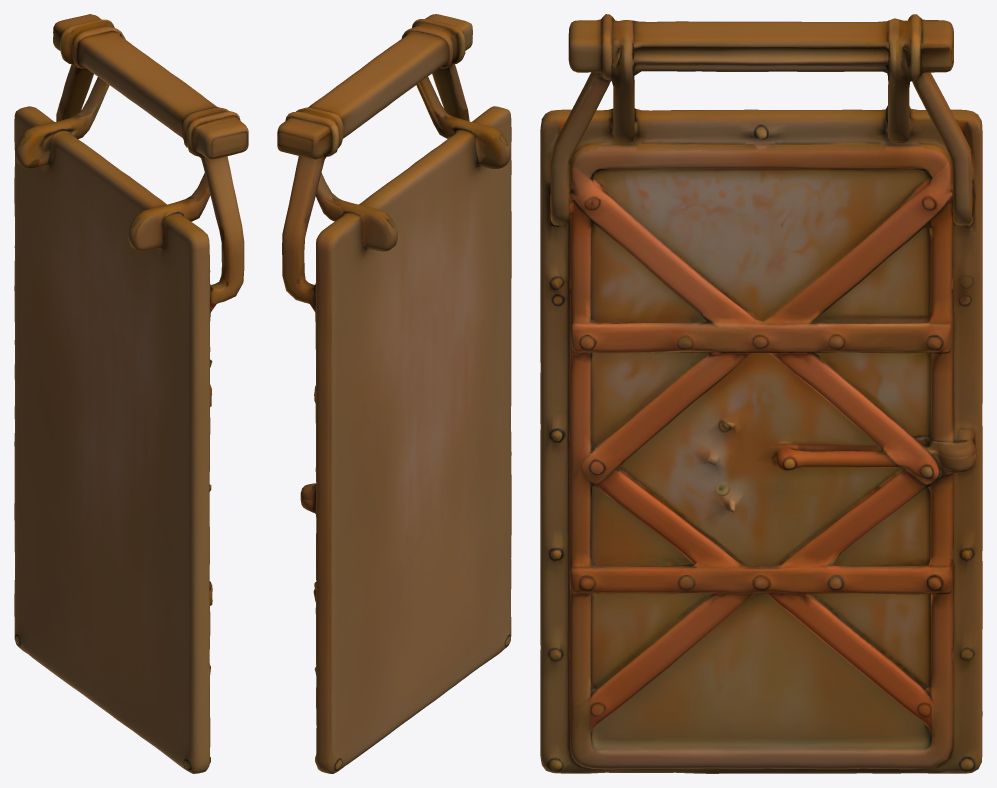
Rendered from tripo_convert_9da96b3b-71a3-46af-a564-e1bcdec0a77b.fbx.
3 views of the same model, side by side, from view 1: azimuth 30°, elevation 25°; view 2: azimuth 150°, elevation 25°; view 3: azimuth 270°, elevation 25° (orthographic). The views are drawn at different scales.
Visible parts, largest first — view 1: tripo_node_9da96b3b; view 2: tripo_node_9da96b3b; view 3: tripo_node_9da96b3b.
Part boxes in pixels (x1,y1,x2,y2): tripo_node_9da96b3b: (14,14,248,773); tripo_node_9da96b3b: (277,14,511,773); tripo_node_9da96b3b: (540,14,982,773).
Size of the model in its own units: 17.67 by 99.95 by 52.04.
Materials: 1 (1 with a texture image).
